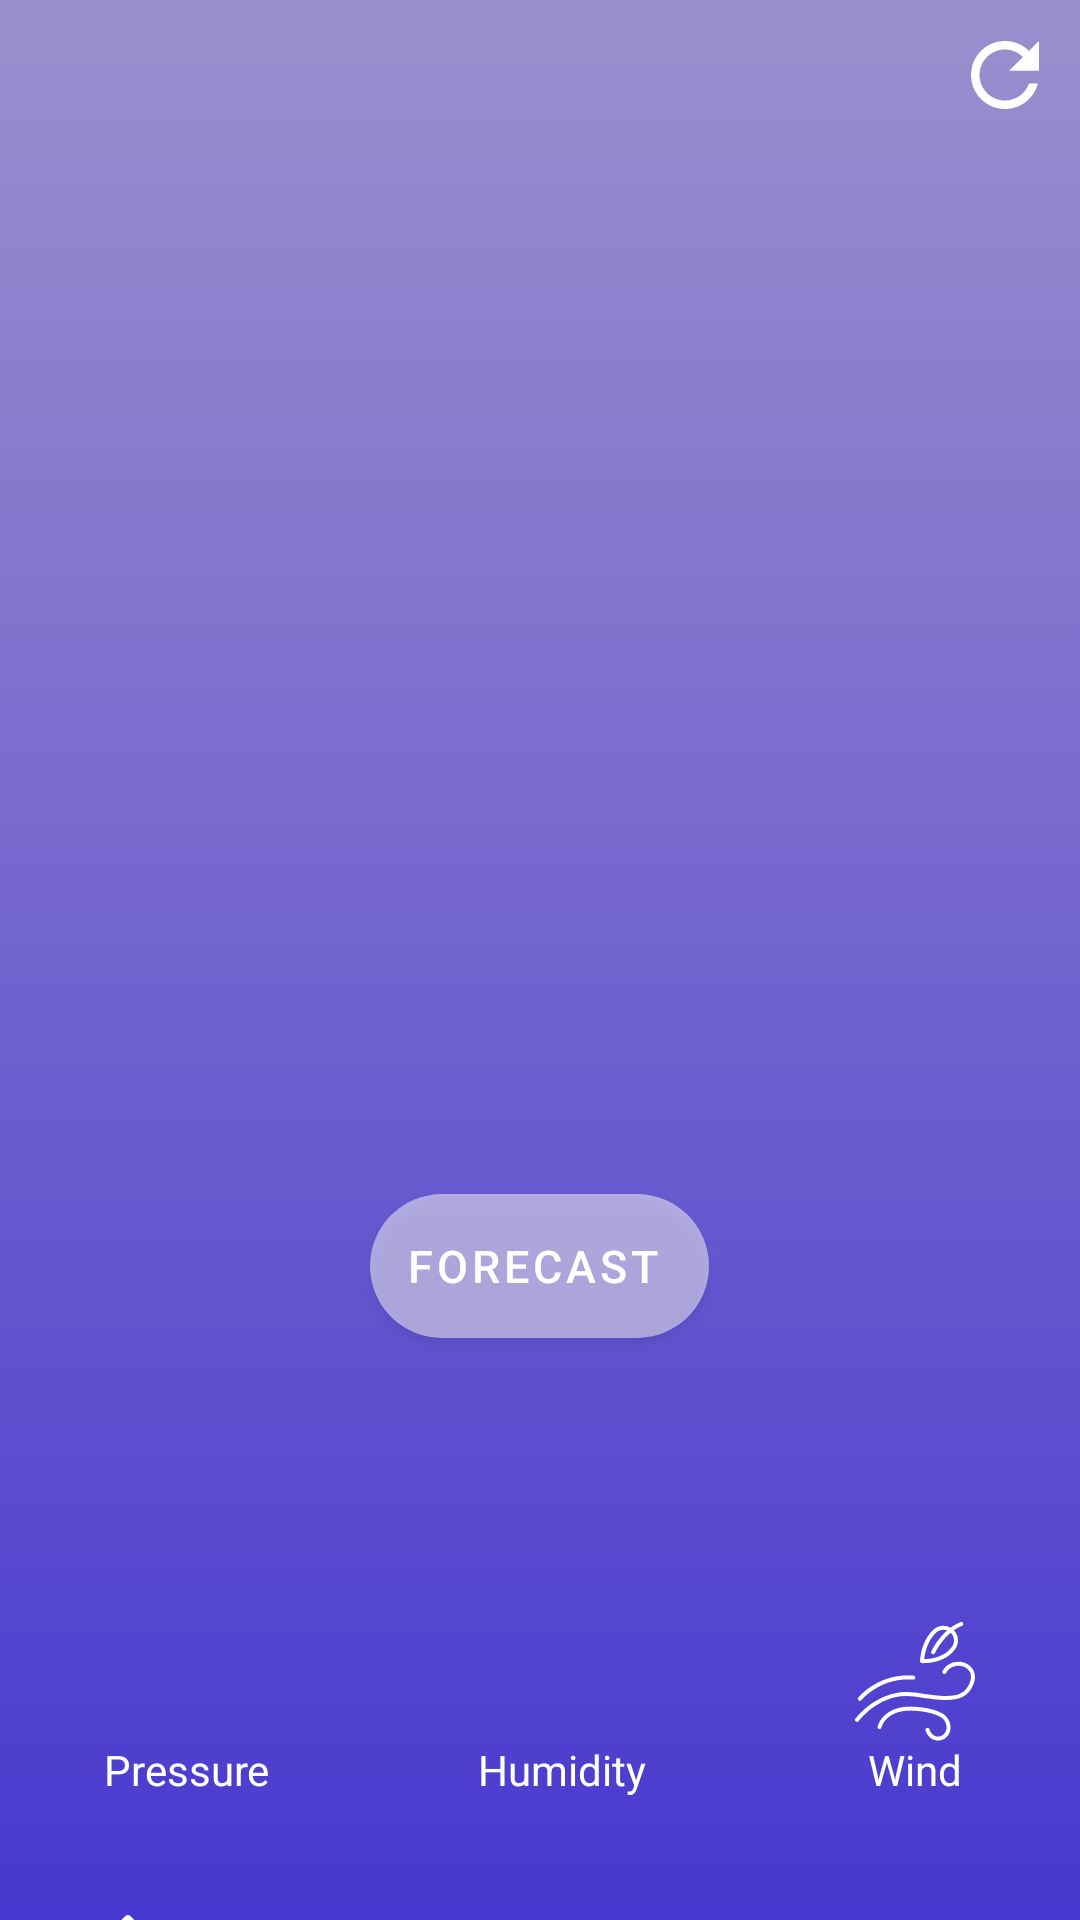

Named icons in this screenshot (1080*1920) and their centers, point (x, y):
refresh button: point (1005, 75)
